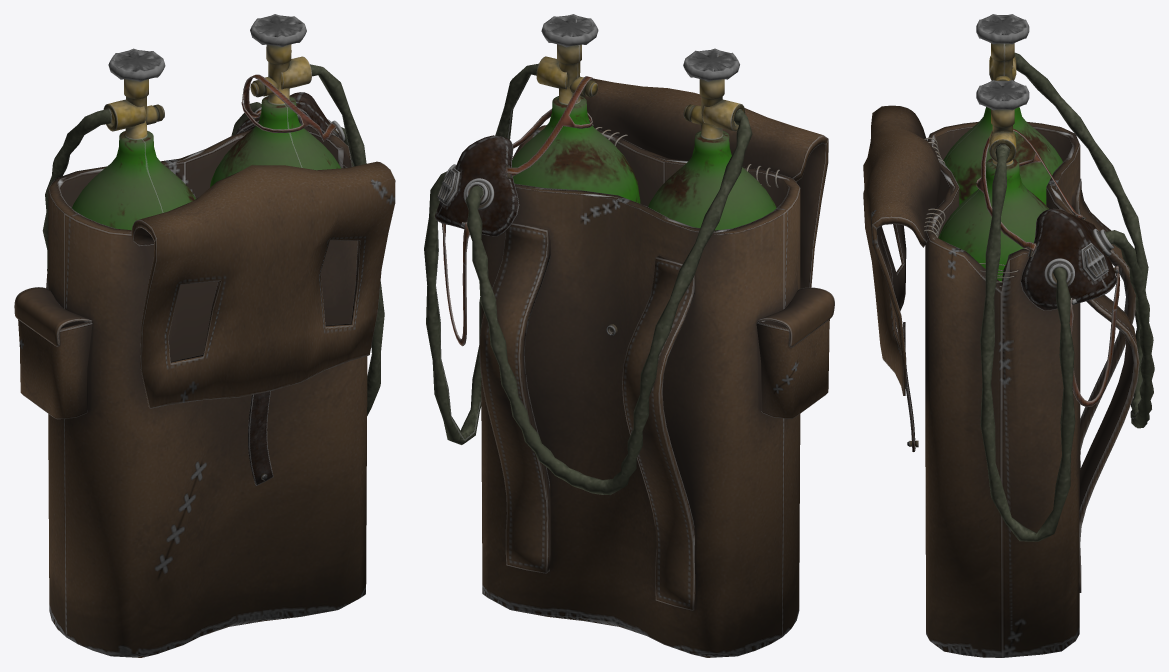
File: post-apocalyptic_oxygen_mask.glb
3 renders of one model, left to right at view 1: azimuth 30°, elevation 25°; view 2: azimuth 150°, elevation 25°; view 3: azimuth 270°, elevation 25°, orthographic. The views are drawn at different scales.
Parts seen in each view (by area): view 1: Backpack; view 2: Backpack; view 3: Backpack.
Boxes of the visible parts, x1=… form: Backpack: x1=14, y1=14, x2=395, y2=657; Backpack: x1=424, y1=14, x2=834, y2=657; Backpack: x1=863, y1=14, x2=1154, y2=657.
Bounding box in the file's own units: 5.15 × 7.89 × 3.83.
Materials: 1 (1 with a texture image).
